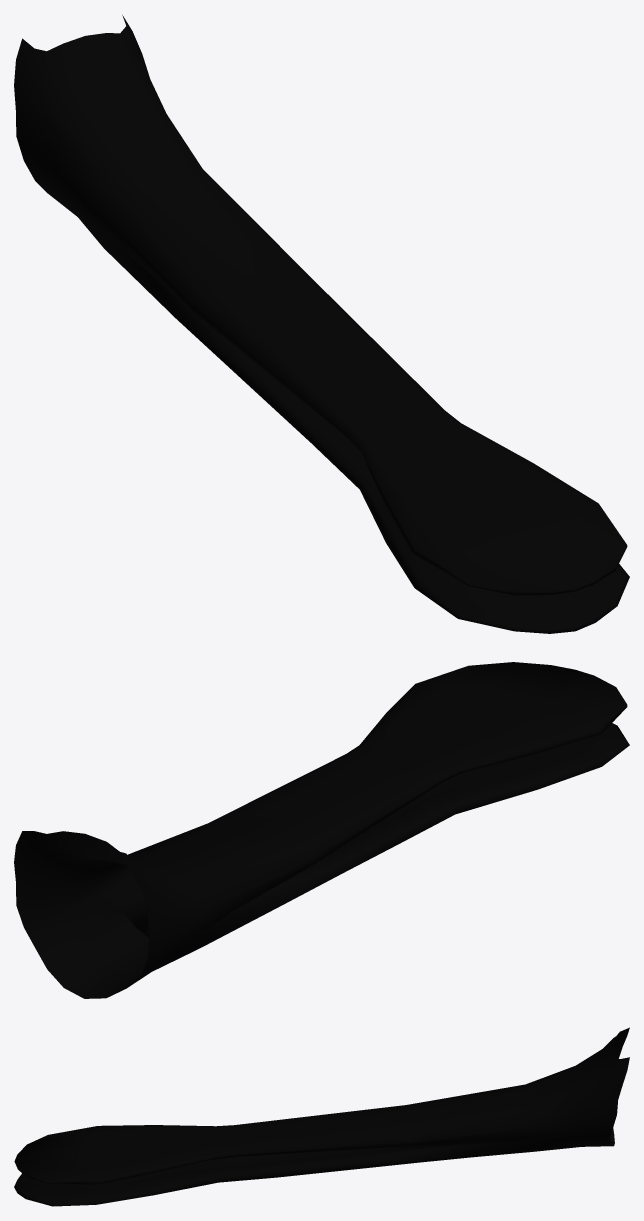
Rendered from mouth.fbx.
3 renders of one model, top to bottom at view 1: azimuth 30°, elevation 25°; view 2: azimuth 150°, elevation 25°; view 3: azimuth 270°, elevation 25°, orthographic. The views are drawn at different scales.
Visible parts, largest first — view 1: Box001; view 2: Box001; view 3: Box001.
Boxes of the visible parts, x1=… form: Box001: x1=14, y1=15, x2=629, y2=633; Box001: x1=14, y1=662, x2=629, y2=998; Box001: x1=14, y1=1027, x2=629, y2=1206.
Bounding box in the file's own units: 3.76 × 4.5 × 17.35.
Materials: 1 (1 with a texture image).
